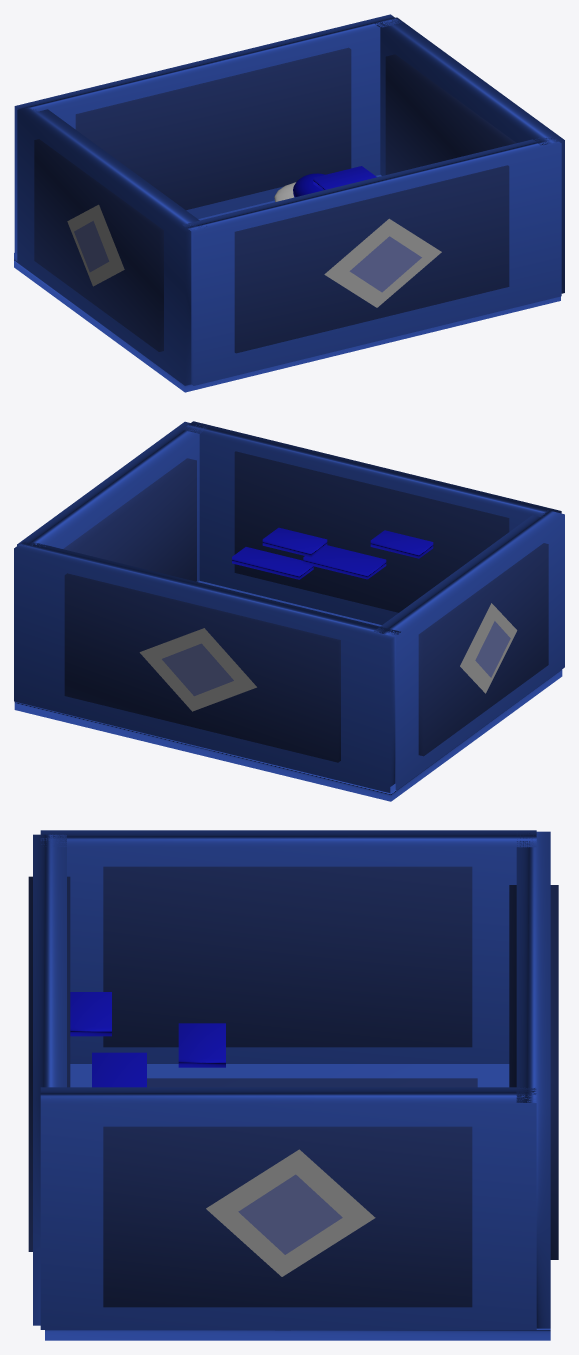
File: caja2.fbx
The picture shows the model from 3 angles, top to bottom: view 1: azimuth 30°, elevation 25°; view 2: azimuth 150°, elevation 25°; view 3: azimuth 270°, elevation 25°; orthographic projection. The views are drawn at different scales.
Visible parts, largest first — view 1: box2; view 2: box2; view 3: box2.
Boxes of the visible parts, box(x1,y1,x2,y2) form: box2: box(14, 14, 564, 392); box2: box(14, 421, 564, 801); box2: box(28, 830, 558, 1340).
Bounding box in the file's own units: 44.25 × 17.17 × 36.
